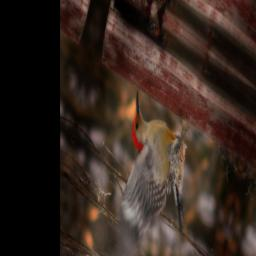Woodpecker: (106, 87, 202, 256)
